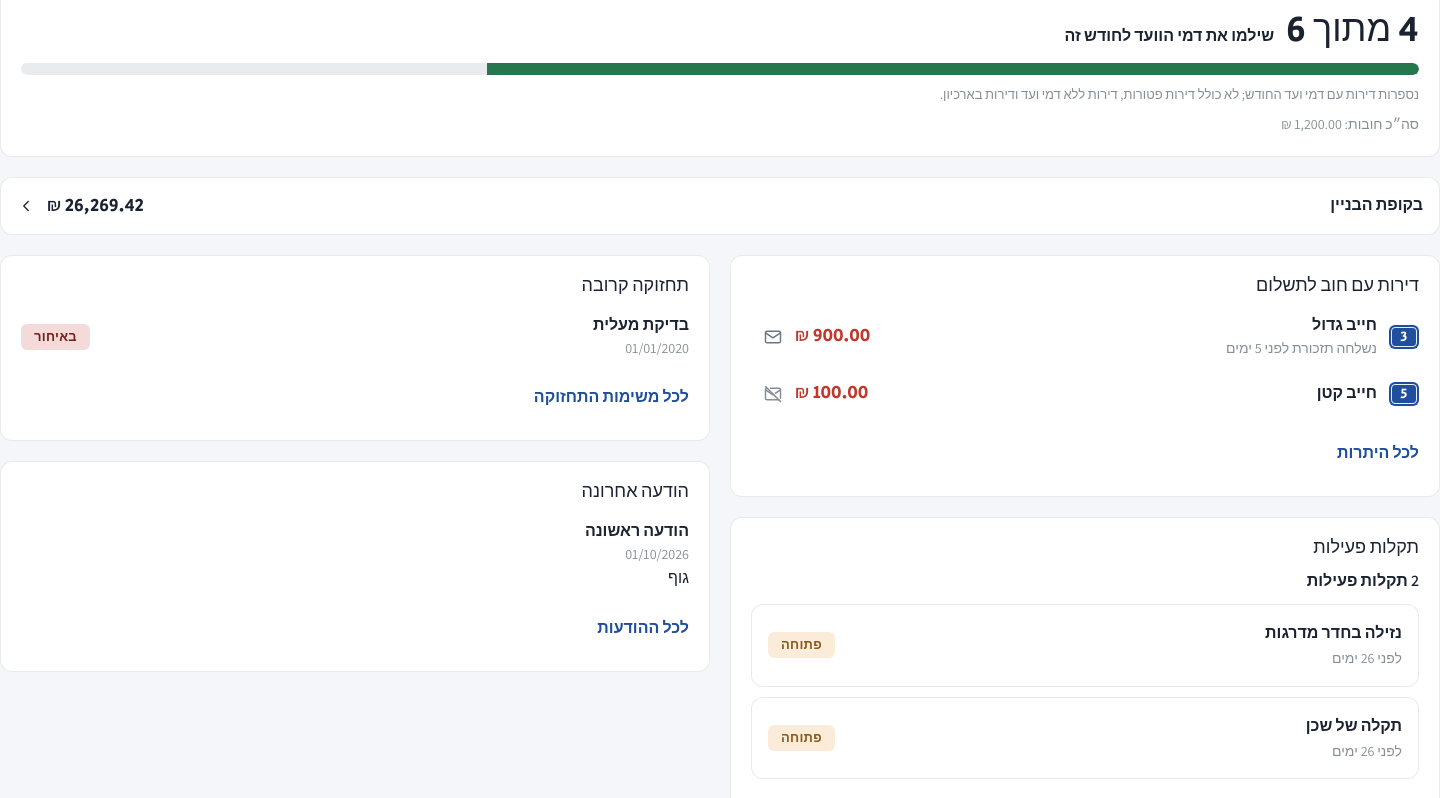
Test: HomePage › reminder envelope: test mode when email is in dry run, unavailable (and says why on tap) without a resident email
The width and height of the screenshot is (1440, 798).
(page scrolled)
Expected: the text "נשלחה תזכורת לפני 5 ימים" is shown, [1226,339,1377,357]
Step 1. Click the button named "תזכורת חוב לדירה 5" → (773, 394), box [751,372,795,416]
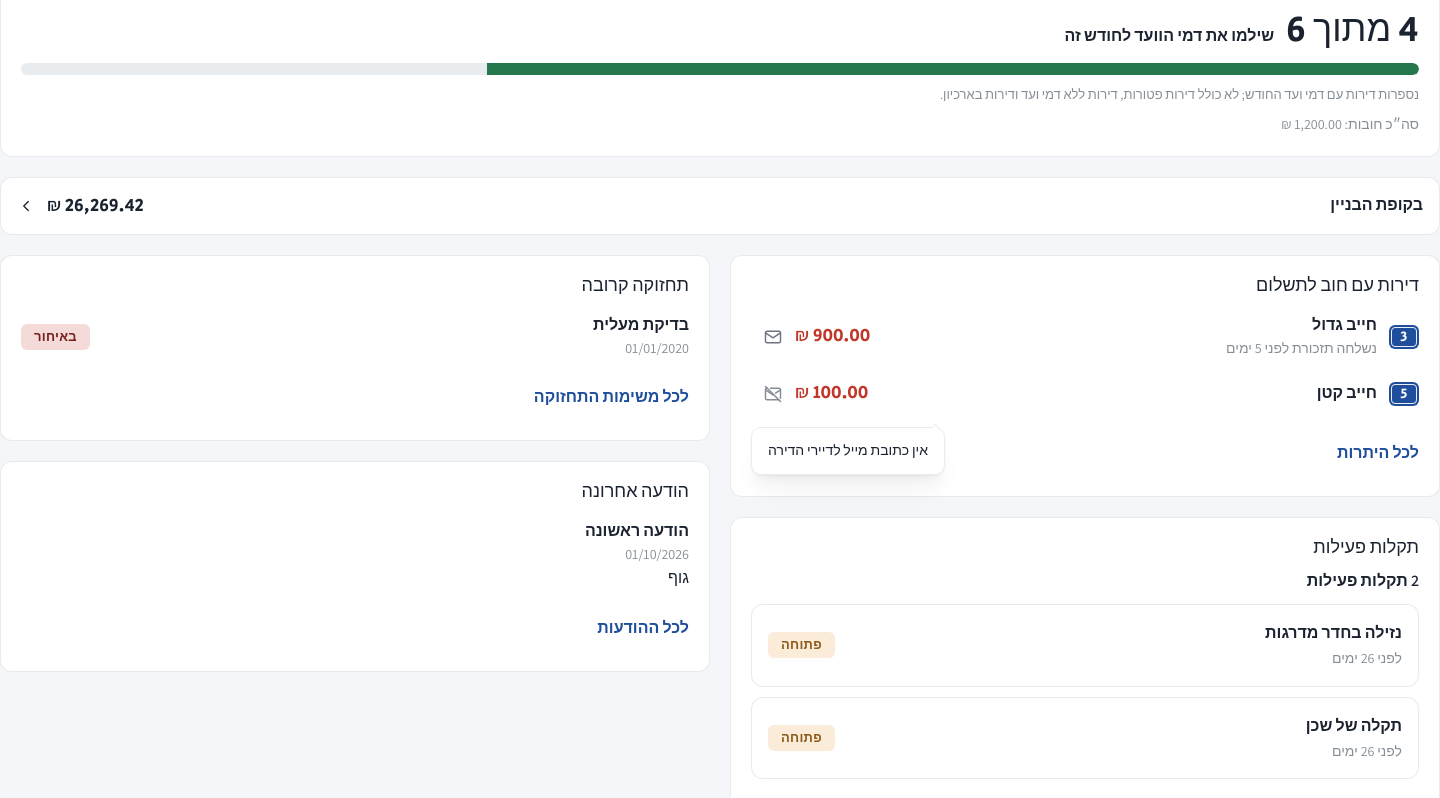
Expected: the dialog reads "אין כתובת מייל לדיירי הדירה", [768,441,928,459]
